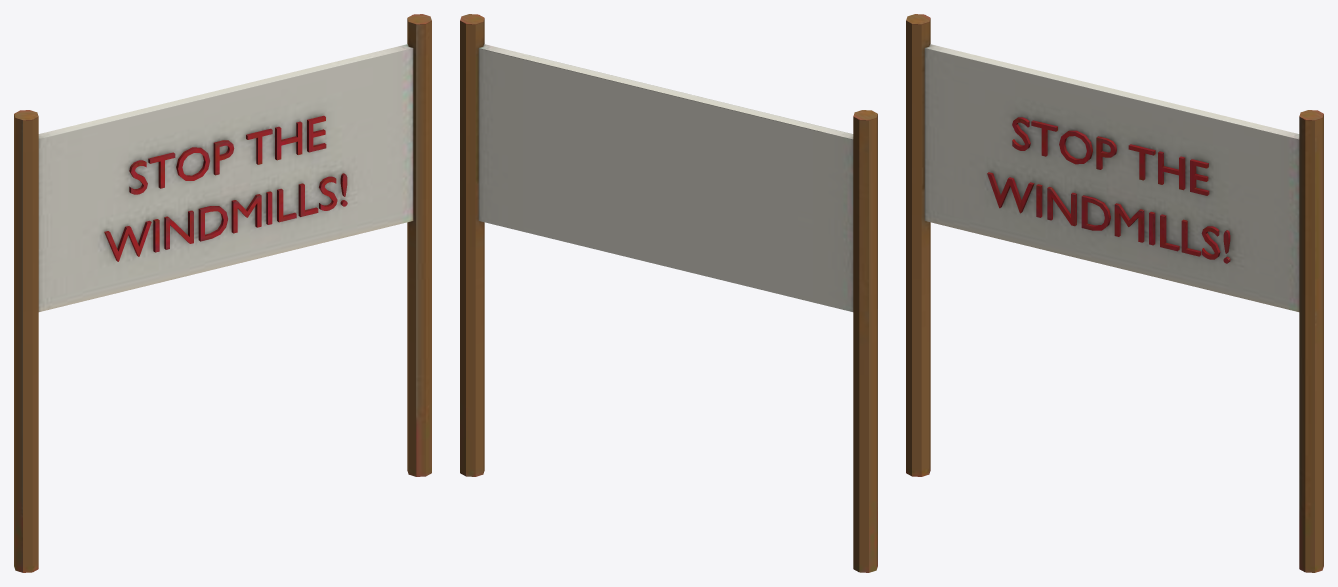
Rendered from cartel_molinos.glb.
3 renders of one model, left to right at view 1: azimuth 30°, elevation 25°; view 2: azimuth 150°, elevation 25°; view 3: azimuth 330°, elevation 25°, orthographic.
Parts seen in each view (by area): view 1: cartel_molinos; view 2: cartel_molinos; view 3: cartel_molinos.
Part boxes in pixels (x1=…): cartel_molinos: x1=14, y1=14, x2=431, y2=572; cartel_molinos: x1=460, y1=14, x2=877, y2=572; cartel_molinos: x1=906, y1=14, x2=1323, y2=572.
Bounding box in the file's own units: 2.64 × 2.75 × 0.14.
Materials: 1 (1 with a texture image).
